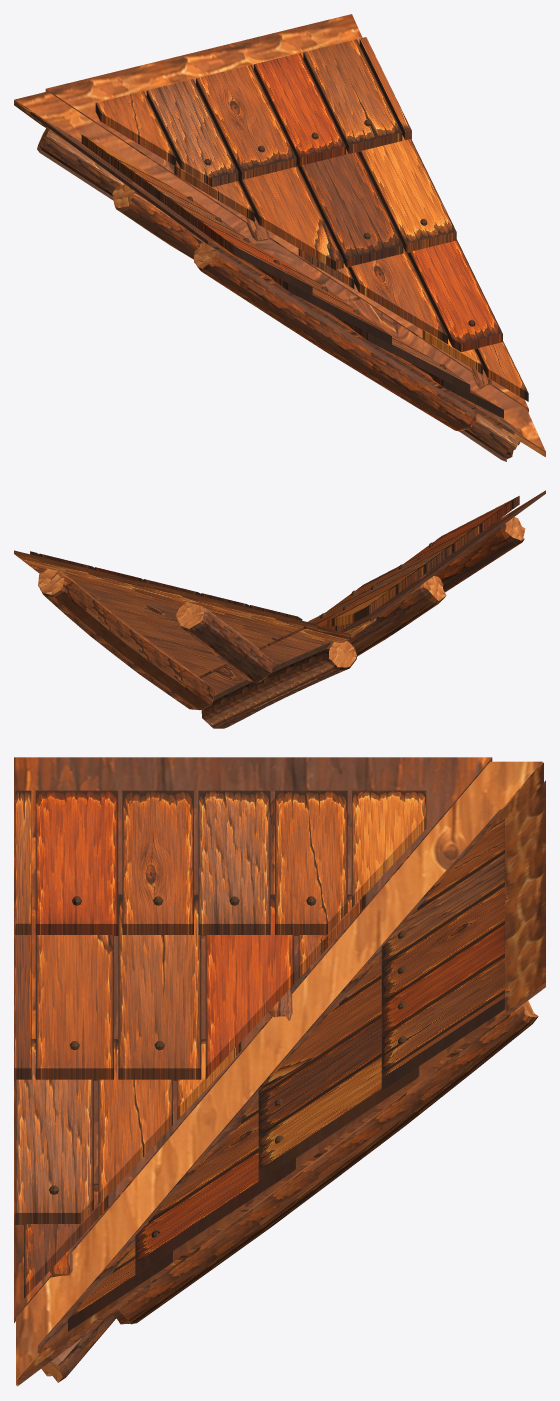
File: roof_45_inner__plank_root.glb
3 views of the same model, one above another, from view 1: azimuth 30°, elevation 25°; view 2: azimuth 150°, elevation 25°; view 3: azimuth 270°, elevation 25° (orthographic). The views are drawn at different scales.
Parts seen in each view (by area): view 1: model; view 2: model; view 3: model.
Boxes of the visible parts, <box> form: model: <box>14,14,545,461</box>; model: <box>14,490,545,728</box>; model: <box>14,757,545,1386</box>.
Size of the model in its own units: 1.99 by 1.71 by 1.99.
25 materials, 25 textured.
